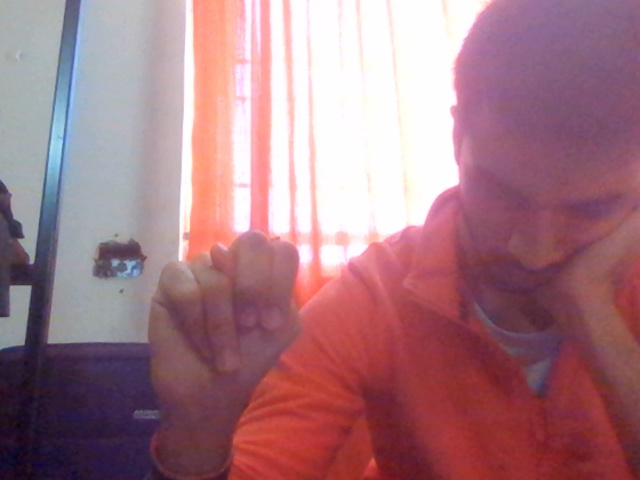N: (133, 222, 325, 468)
